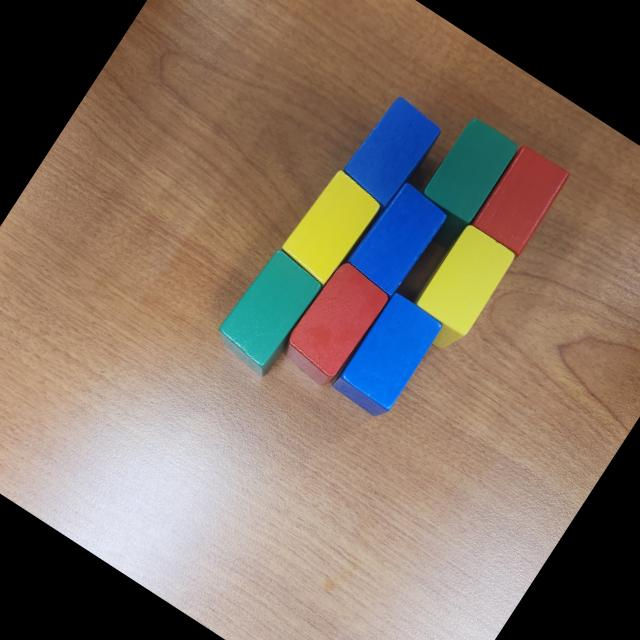blue: (327, 288, 447, 423), (340, 174, 452, 300), (335, 91, 447, 216)
green: (400, 113, 522, 256), (210, 242, 330, 378)
red: (274, 257, 393, 392), (469, 140, 574, 256)
yellow: (400, 222, 520, 358), (274, 165, 386, 291)
